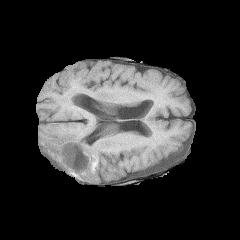glioma: (39, 118, 105, 182)
